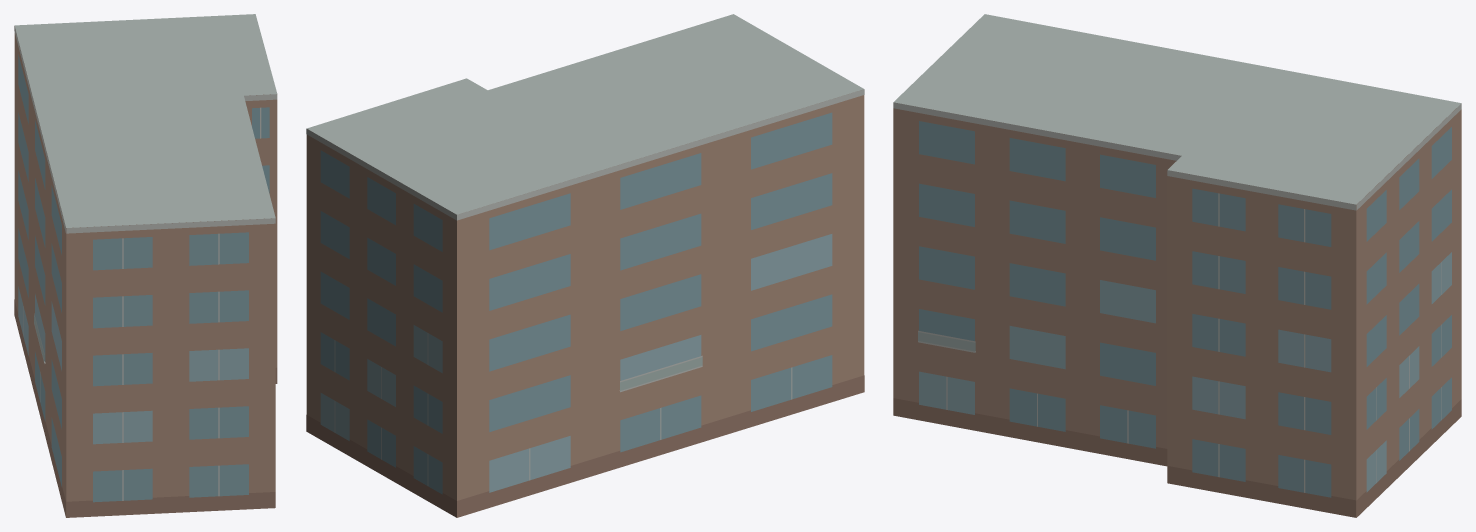
The model's file is survey-upis-32682154.glb.
3 renders of one model, left to right at view 1: azimuth 30°, elevation 25°; view 2: azimuth 150°, elevation 25°; view 3: azimuth 270°, elevation 25°, orthographic. The views are drawn at different scales.
Parts seen in each view (by area): view 1: survey-upis-32682154.tmp; view 2: survey-upis-32682154.tmp; view 3: survey-upis-32682154.tmp.
Part boxes in pixels (bbox=[...]): survey-upis-32682154.tmp: bbox=[14, 14, 277, 517]; survey-upis-32682154.tmp: bbox=[306, 14, 864, 517]; survey-upis-32682154.tmp: bbox=[893, 14, 1461, 517].
Size of the model in its own units: 16.72 by 12.8 by 21.06.
